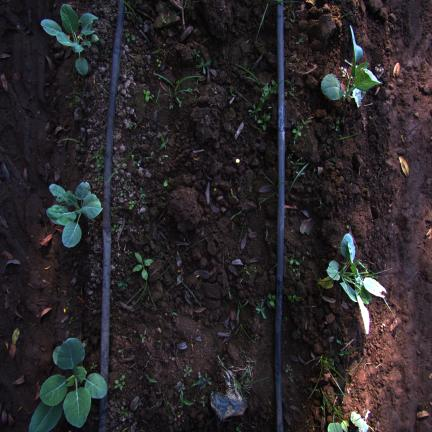crop: (29, 338, 107, 432), (319, 234, 386, 334), (321, 26, 382, 107), (41, 4, 98, 75), (46, 182, 103, 248), (327, 412, 369, 432)
